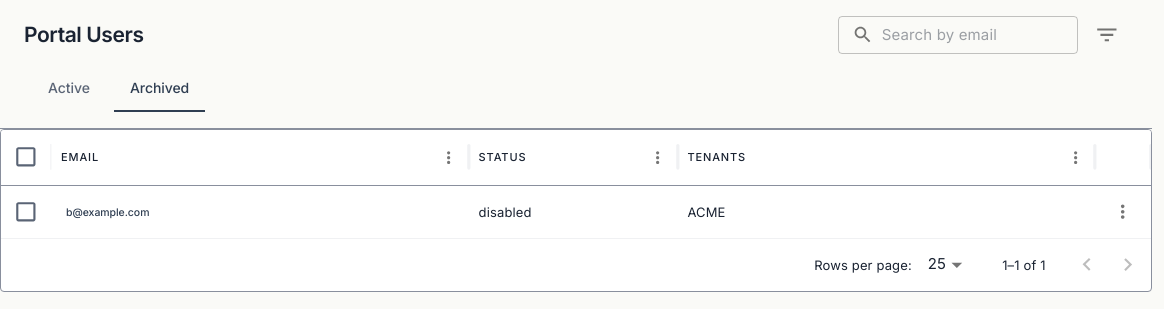
Test: PortalUsersPage › offers only Restore selected in the Archived view, with no create action (I0011-R005)
Expected: the button "b@example.com" is shown, [61, 200, 154, 226]
Click the checkbox named "select row".
click(26, 212)  # box [13, 199, 39, 225]
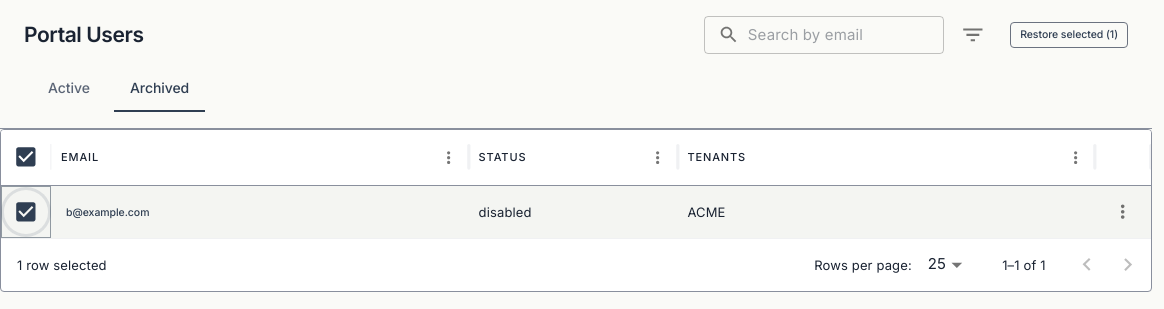
Now the button "Restore selected (1)" is shown, box [1010, 22, 1128, 48]
